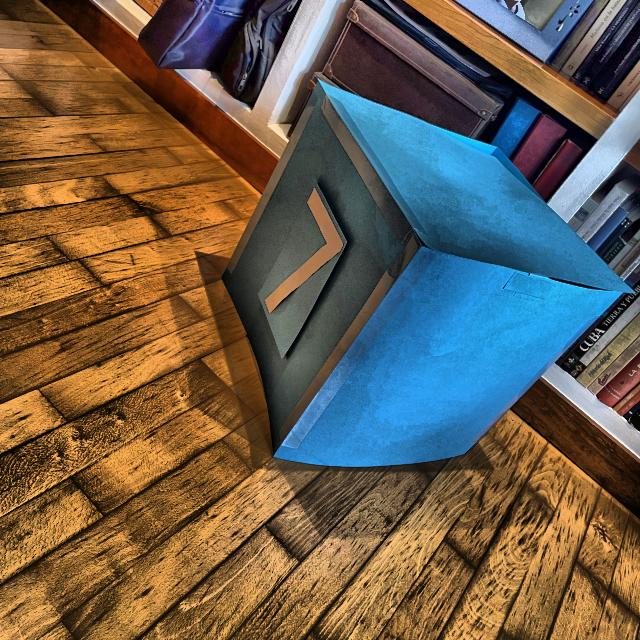blue box: (215, 78, 629, 467)
seven: (261, 186, 343, 314)
